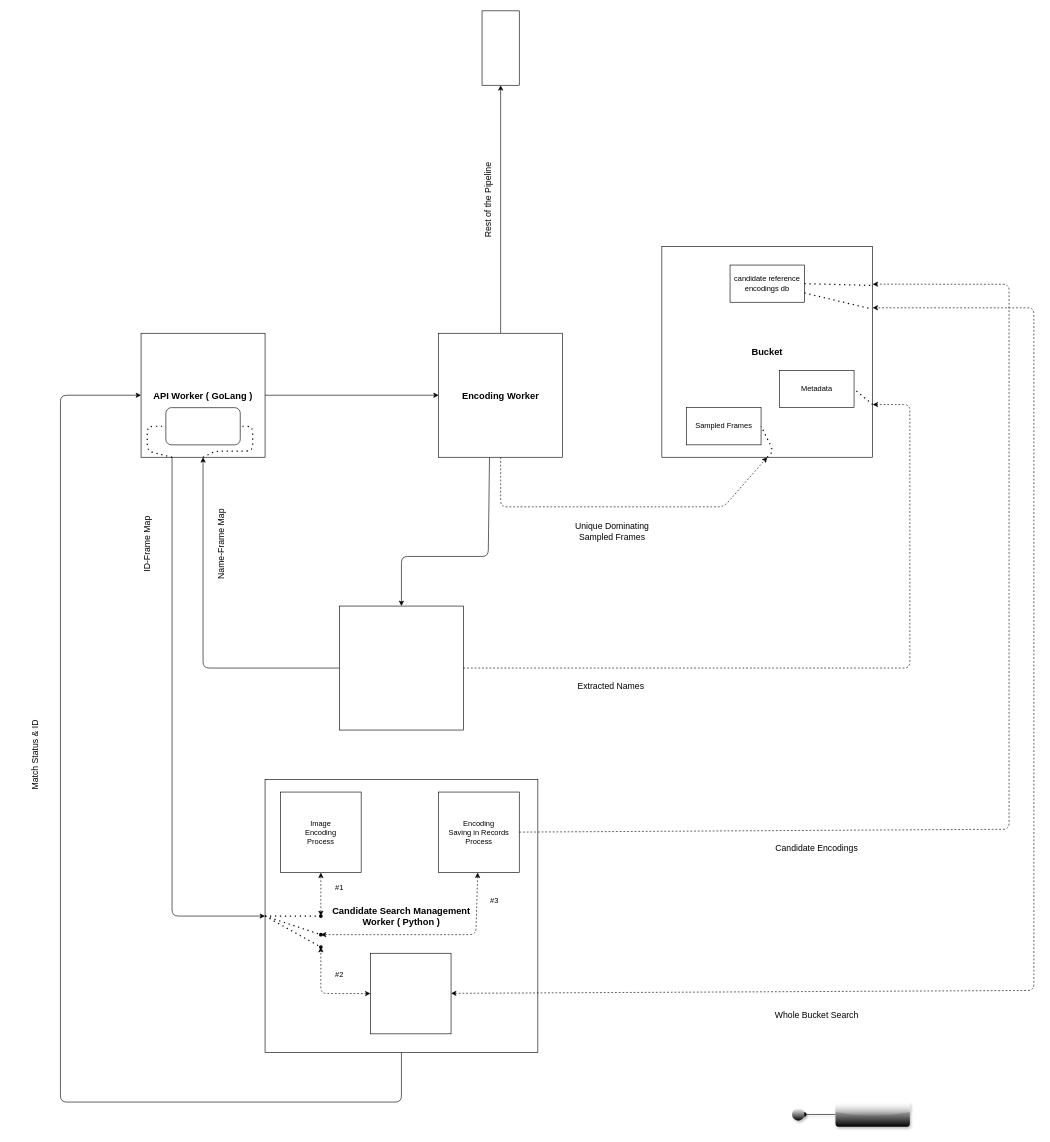
The diagram is 1050 pixels wide and 1142 high, and some of its shapes have lost their labels. Each missing label, with the centre of its shape:
"ankit.kumar05" belongs at point (873, 1115).
"Image Crosscheck with Candidate Records Process" belongs at point (410, 993).
"Inference Logic" belongs at point (202, 426).
"OCR Worker ( pubsub / gRPC ) ( GoLang / Python )" belongs at point (401, 667).
"Upstream" belongs at point (500, 47).
